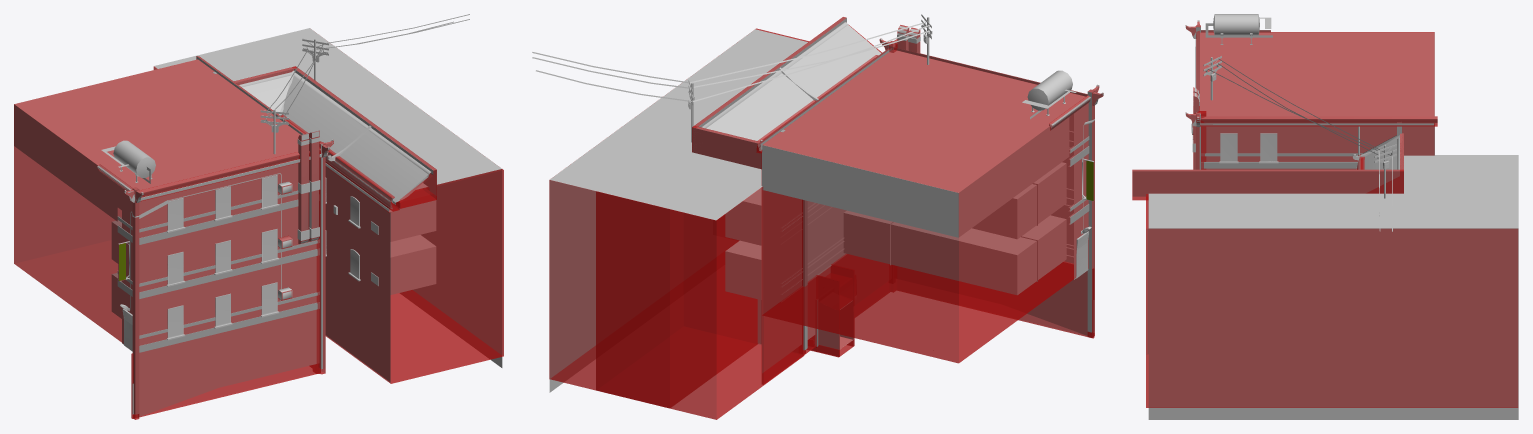
File: CT_building_011.dae
3 renders of one model, left to right at view 1: azimuth 30°, elevation 25°; view 2: azimuth 150°, elevation 25°; view 3: azimuth 270°, elevation 25°, orthographic. The views are drawn at different scales.
Visible parts, largest first — view 1: colmesh-2, _011_building800, _011_building100, _011_building400; view 2: colmesh-2, _011_building800, _011_building100; view 3: _011_building800, colmesh-2, _011_building100, _011_building400.
Part boxes in pixels (<box>): colmesh-2: <box>14,56,503,419</box>; _011_building800: <box>14,14,502,417</box>; _011_building100: <box>122,55,430,415</box>; _011_building400: <box>123,56,429,349</box>; colmesh-2: <box>549,17,1103,419</box>; _011_building800: <box>532,14,1103,392</box>; _011_building100: <box>692,25,1101,349</box>; _011_building800: <box>1132,14,1518,419</box>; colmesh-2: <box>1132,21,1518,407</box>; _011_building100: <box>1147,22,1434,327</box>; _011_building400: <box>1185,20,1389,168</box>.
Bounding box in the file's own units: 318 × 195 × 251.
